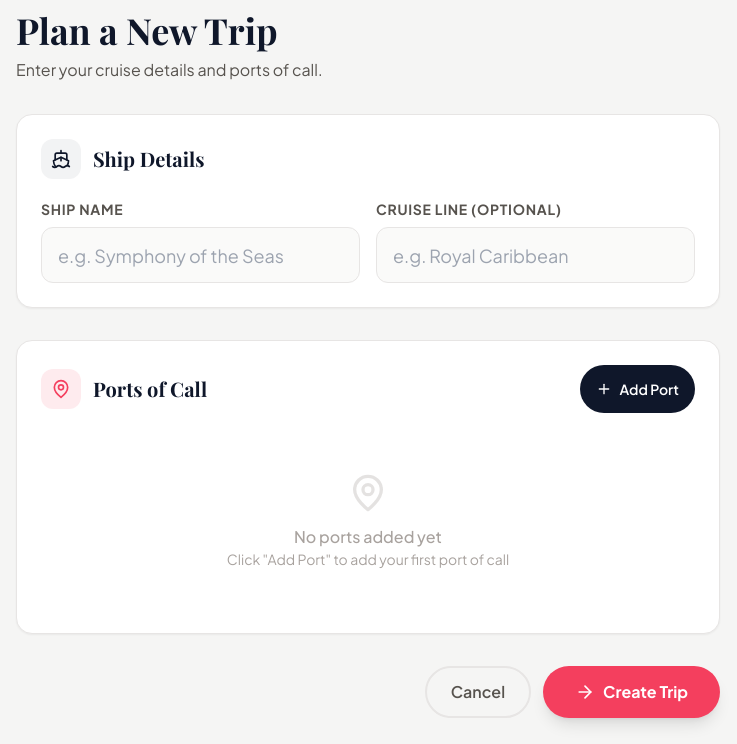
Test: TripSetup — ship name autocomplete › filters suggestions based on typed text
In the field with test id "ship-name-input": (200, 255) [41, 227, 360, 283], type "Symphony"
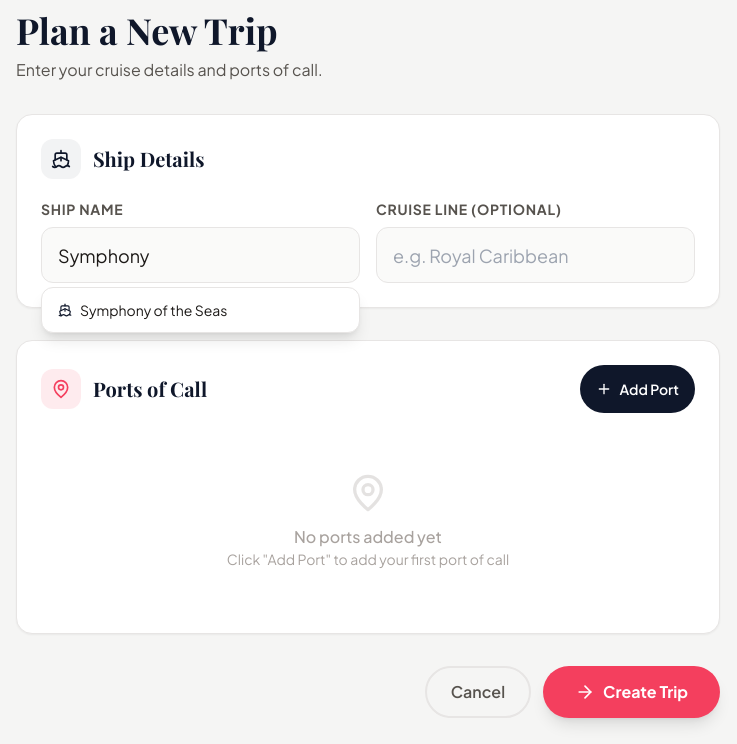
Result: the button "Symphony of the Seas" is shown at [42, 288, 359, 332]
